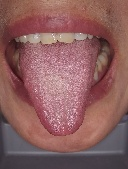tongue: (18, 45, 101, 137)
